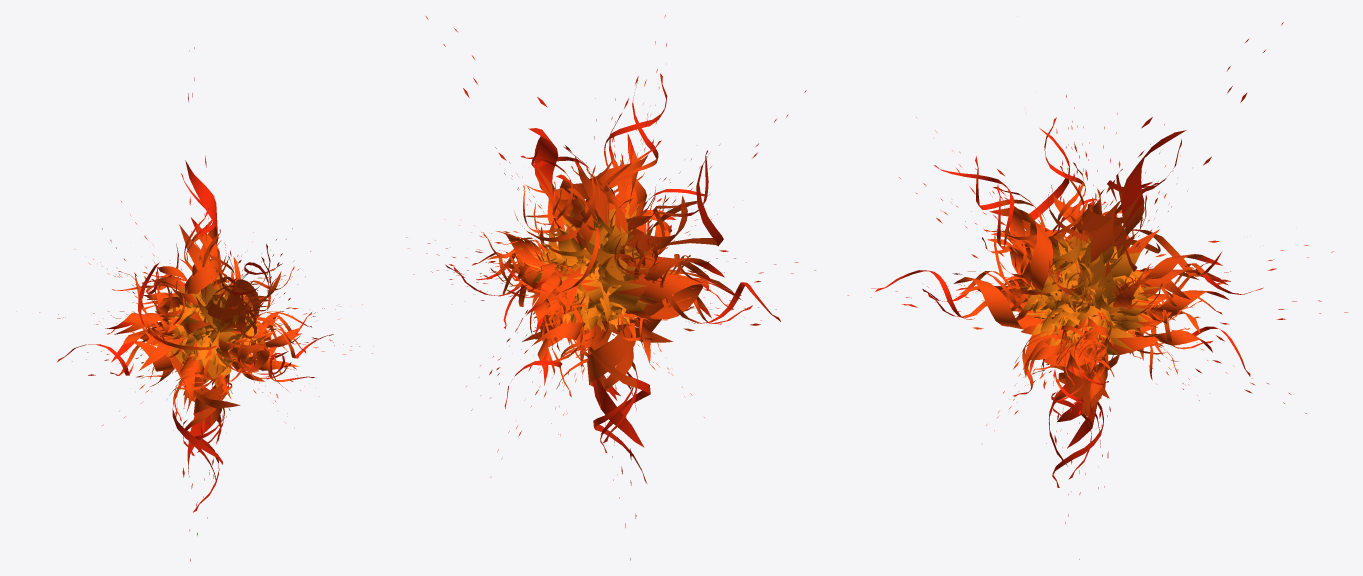
File: fireball_13.obj
The picture shows the model from 3 angles, left to right: view 1: azimuth 30°, elevation 25°; view 2: azimuth 150°, elevation 25°; view 3: azimuth 270°, elevation 25°; orthographic projection. The views are drawn at different scales.
Parts seen in each view (by area): view 1: Fireball; view 2: Fireball; view 3: Fireball.
Boxes of the visible parts, left/top/right/bottom form: Fireball: left=39, top=47, right=373, bottom=561; Fireball: left=406, top=15, right=815, bottom=560; Fireball: left=847, top=22, right=1347, bottom=559.
Size of the model in its own units: 1.72 by 2.28 by 1.76.
